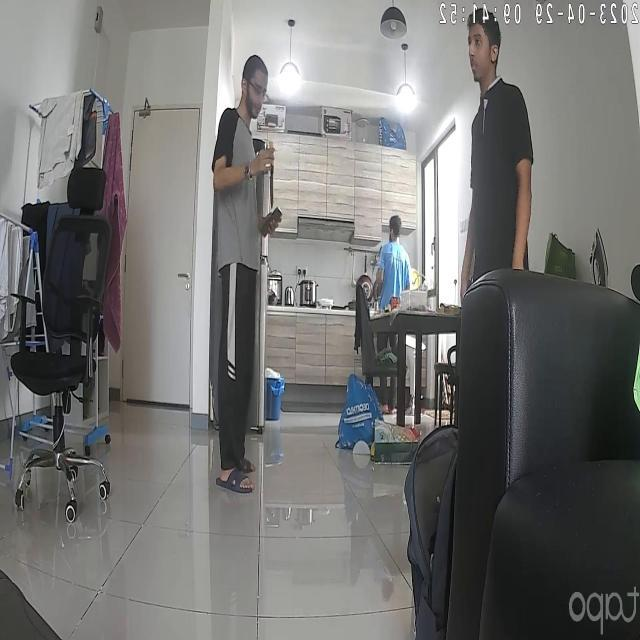Knife: (262, 139, 288, 217)
